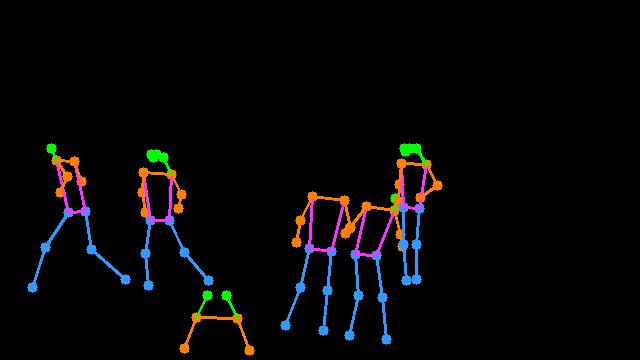normal: (275, 182, 413, 349), (12, 131, 132, 301), (127, 146, 223, 294)
